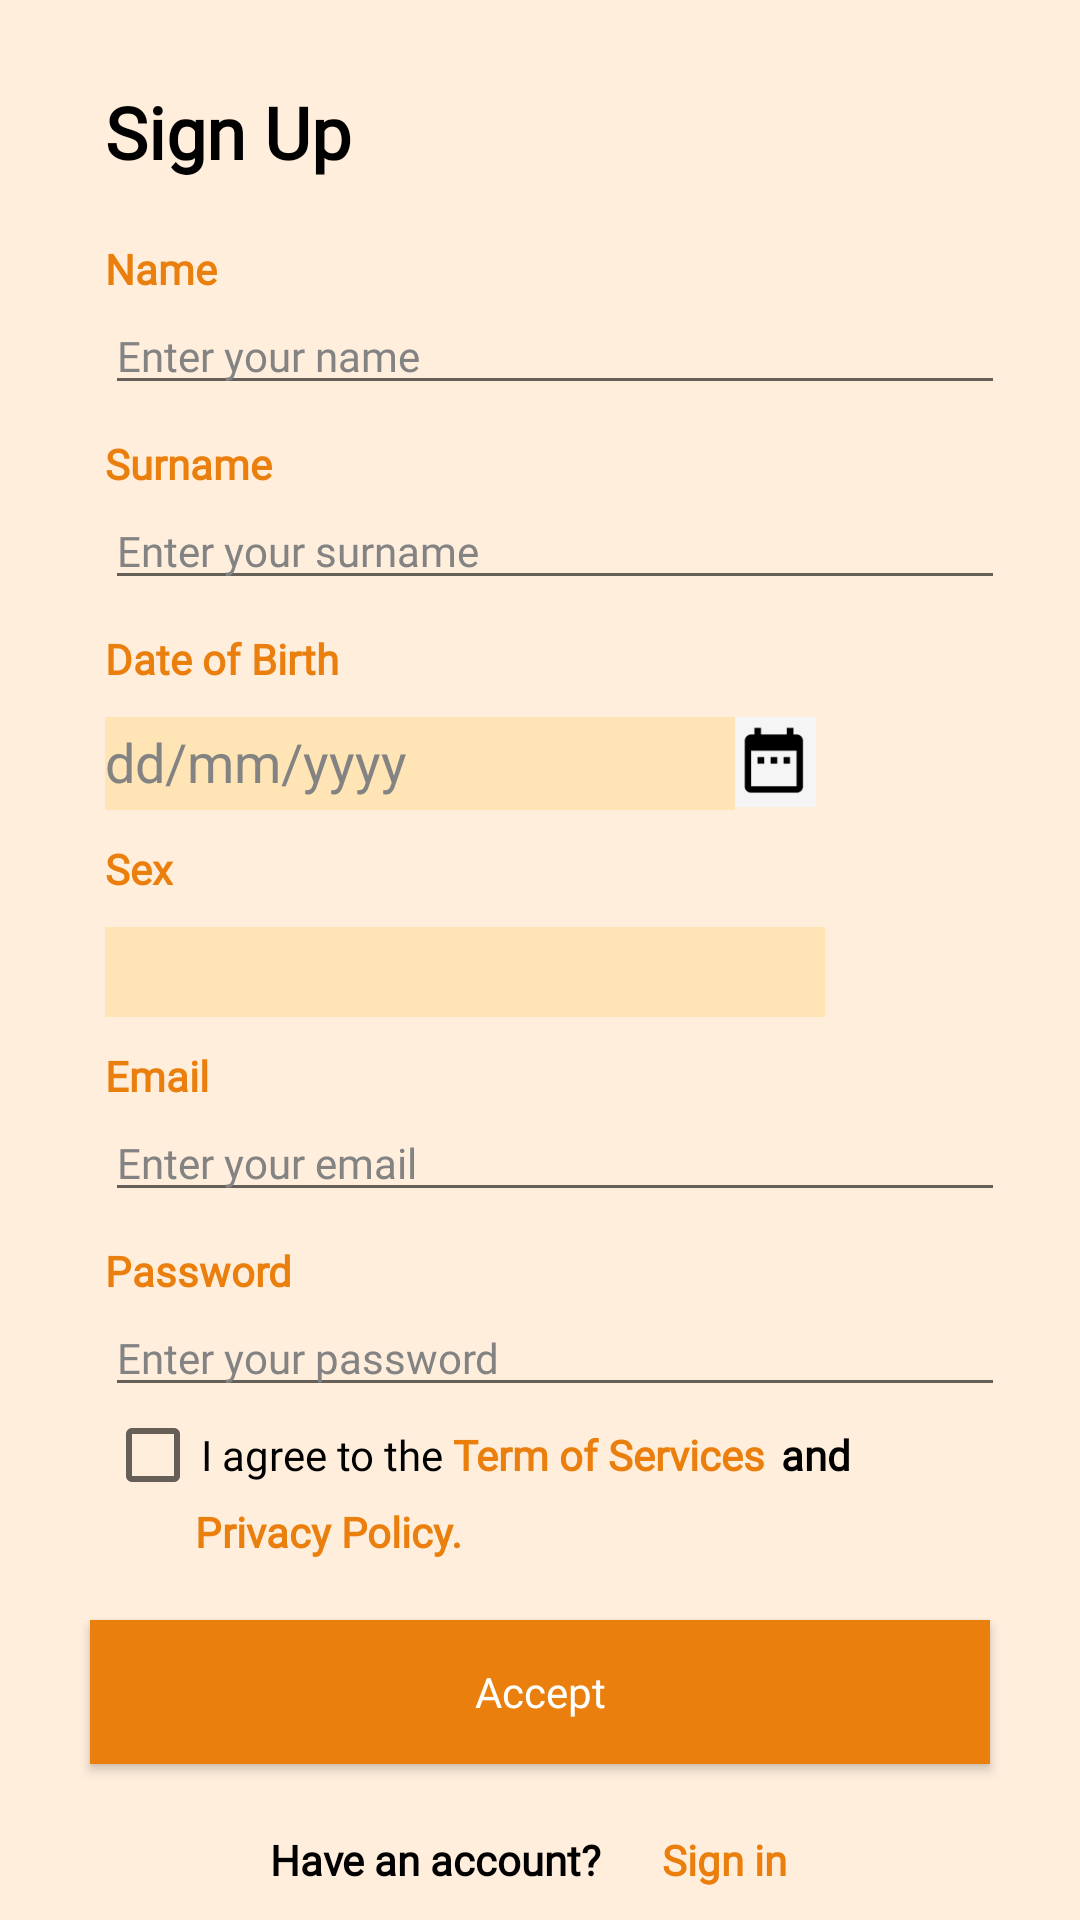

Icon bounding boxes for this 1080w x 1920h phone screenshot, format bbox=(x1, y1, x2, y2):
date: bbox=(735, 717, 816, 807)
